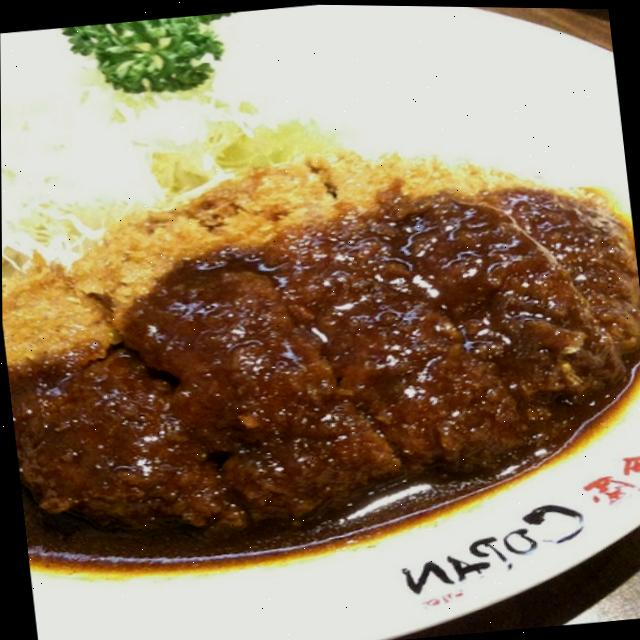炸货点心: (0, 75, 640, 615)
